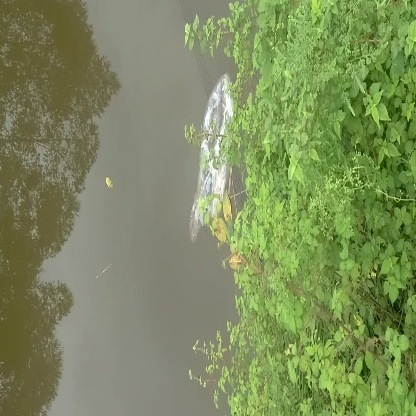plastic-bag: (179, 69, 235, 238)
